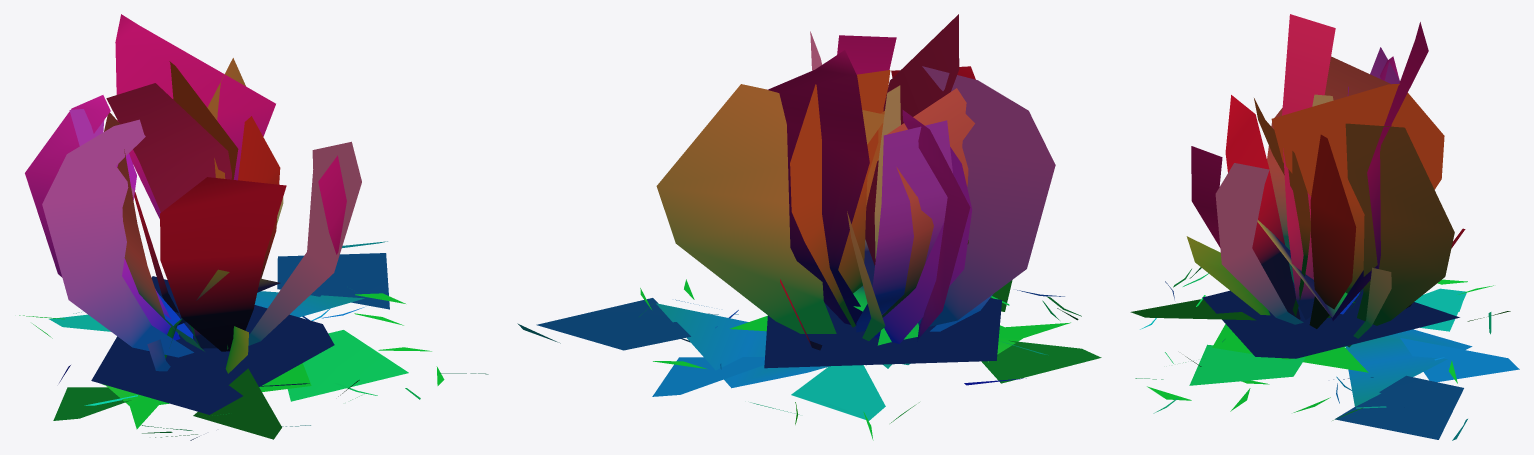
The model's file is Dead_Shrubs_vdknafgha_Low_vdknafgha_VarF_LOD2.fbx.
3 renders of one model, left to right at view 1: azimuth 30°, elevation 25°; view 2: azimuth 150°, elevation 25°; view 3: azimuth 270°, elevation 25°, orthographic. The views are drawn at different scales.
Visible parts, largest first — view 1: _5z95_VarF_LOD3; view 2: _5z95_VarF_LOD3; view 3: _5z95_VarF_LOD3.
Boxes of the visible parts, box(x1,y1,x2,y2) form: _5z95_VarF_LOD3: box(19, 14, 488, 440); _5z95_VarF_LOD3: box(517, 14, 1101, 440); _5z95_VarF_LOD3: box(1130, 14, 1519, 440).
Bounding box in the file's own units: 73.58 × 52.57 × 60.66.
